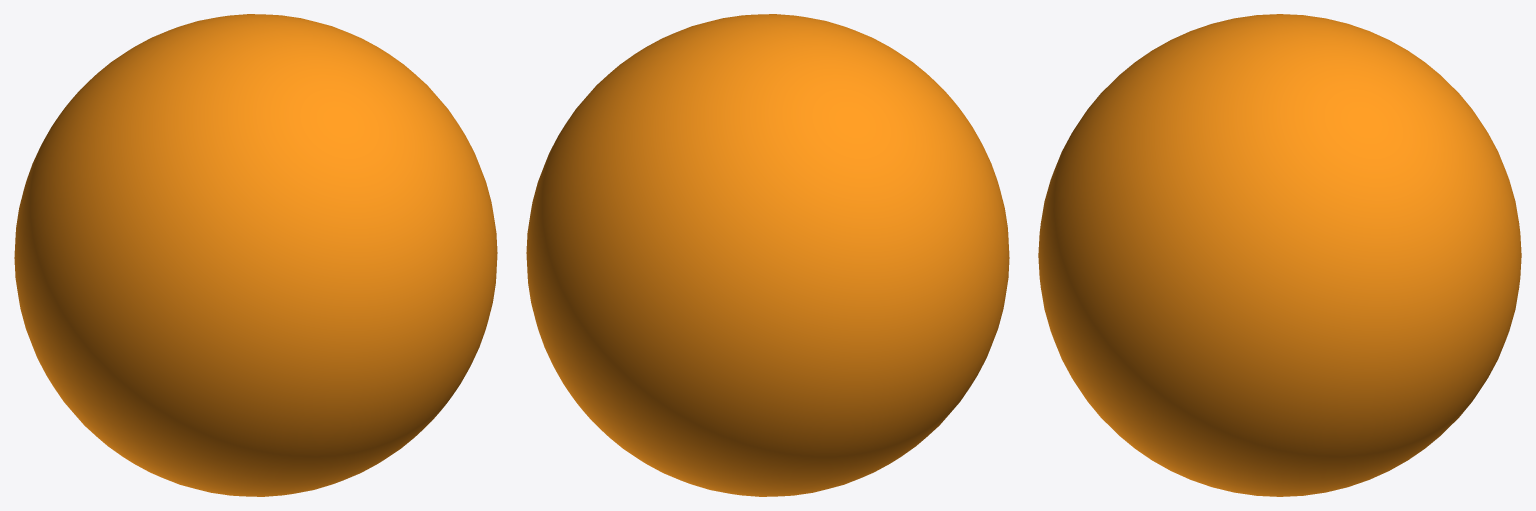
File: Esfera.obj
3 views of the same model, side by side, from view 1: azimuth 30°, elevation 25°; view 2: azimuth 150°, elevation 25°; view 3: azimuth 270°, elevation 25° (orthographic).
Visible parts, largest first — view 1: obj1; view 2: obj1; view 3: obj1.
Boxes of the visible parts, x1,y1,x2,y2 form: obj1: (14, 14, 497, 496); obj1: (526, 14, 1009, 496); obj1: (1038, 14, 1521, 496).
Size of the model in its own units: 1.71 by 1.71 by 1.71.
